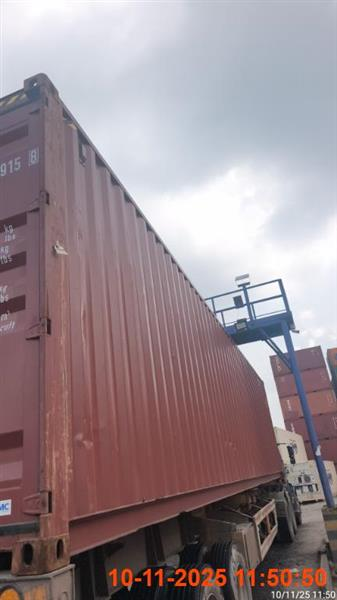hole: (0, 74, 300, 599)
